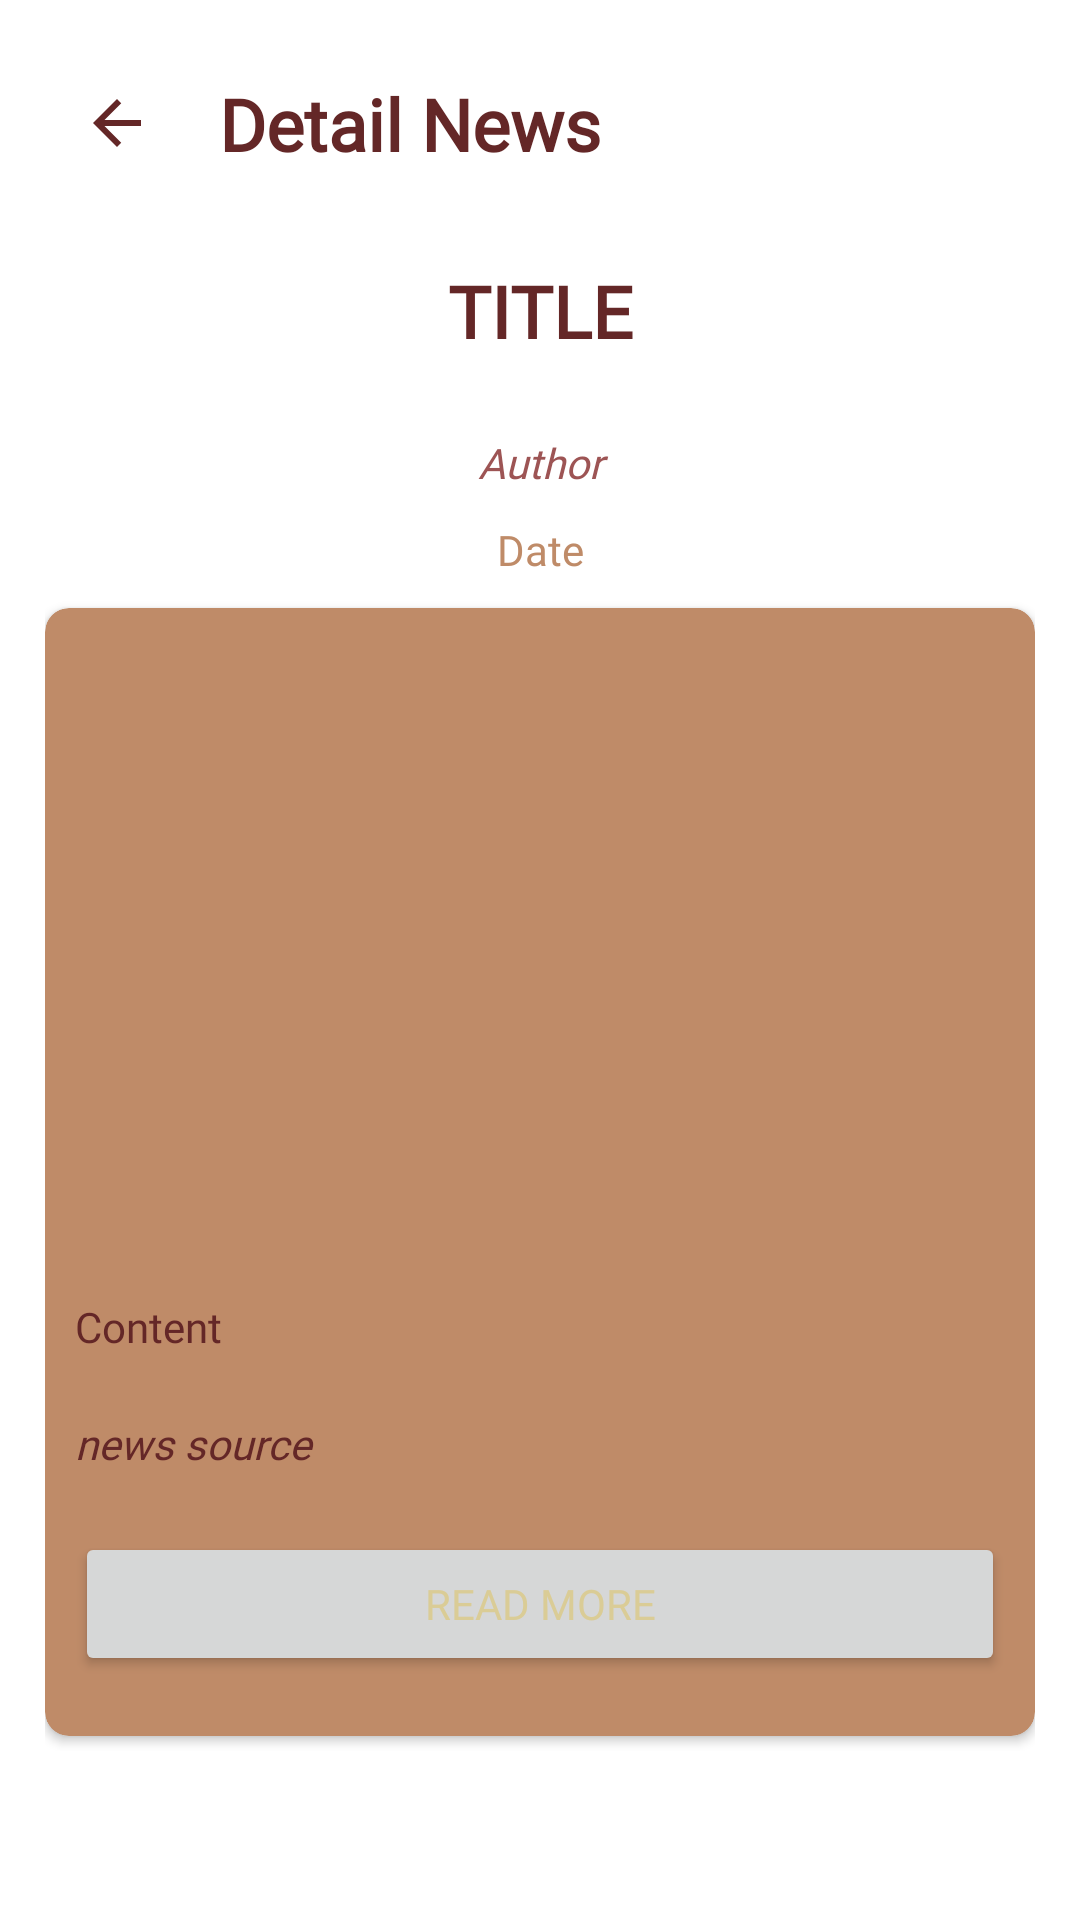

Screen size 1080×1920. Icon name, then its box in pixels as (x1, y1, x2, y2):
back: (93, 99, 141, 147)
